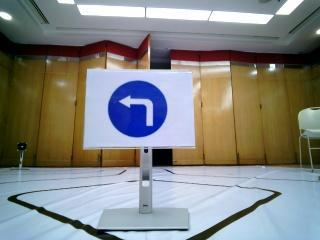left: (90, 74, 187, 144)
